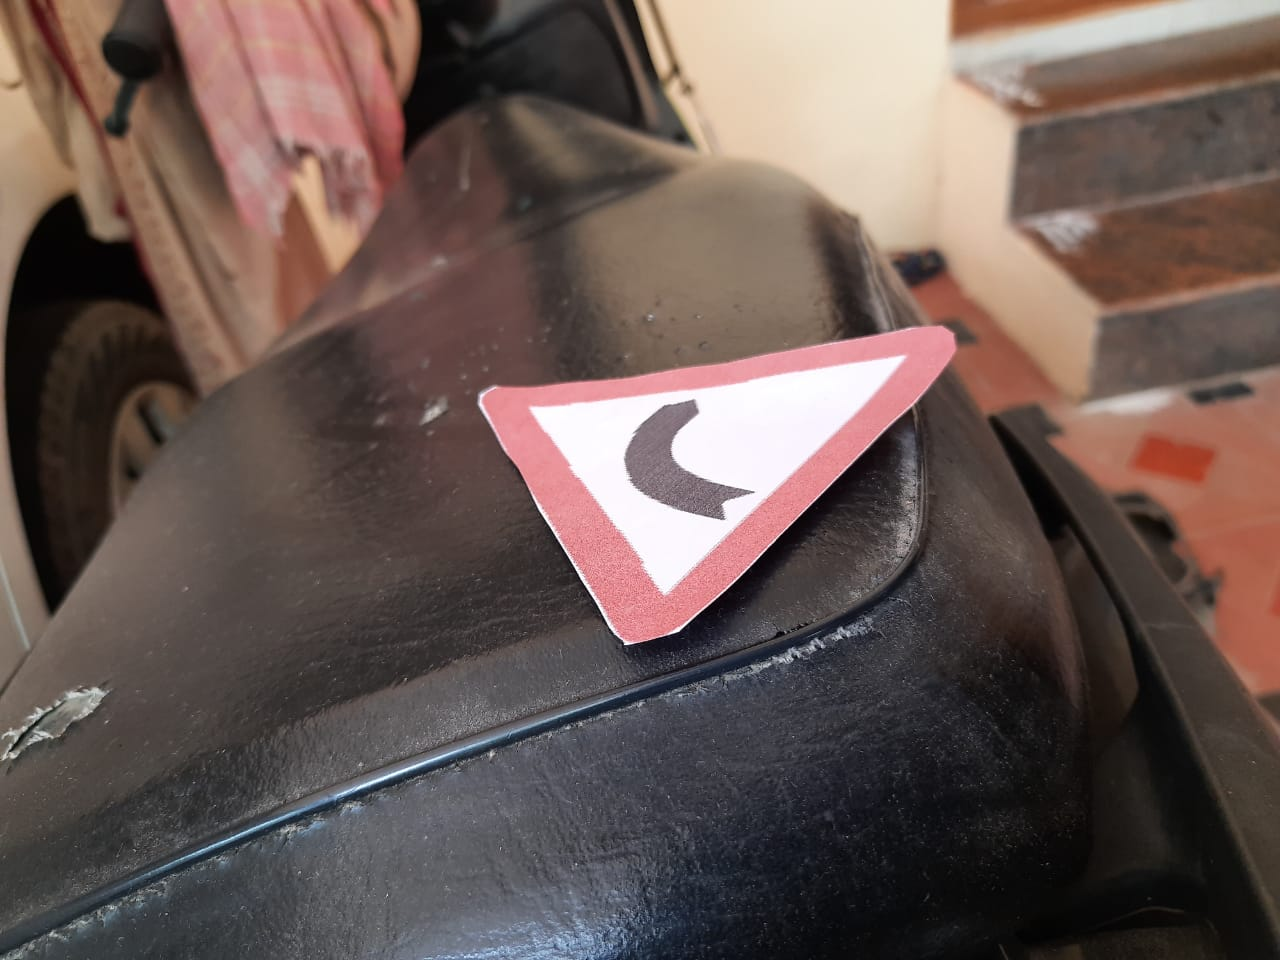RIGHT CURVE: (386, 330, 961, 624)
